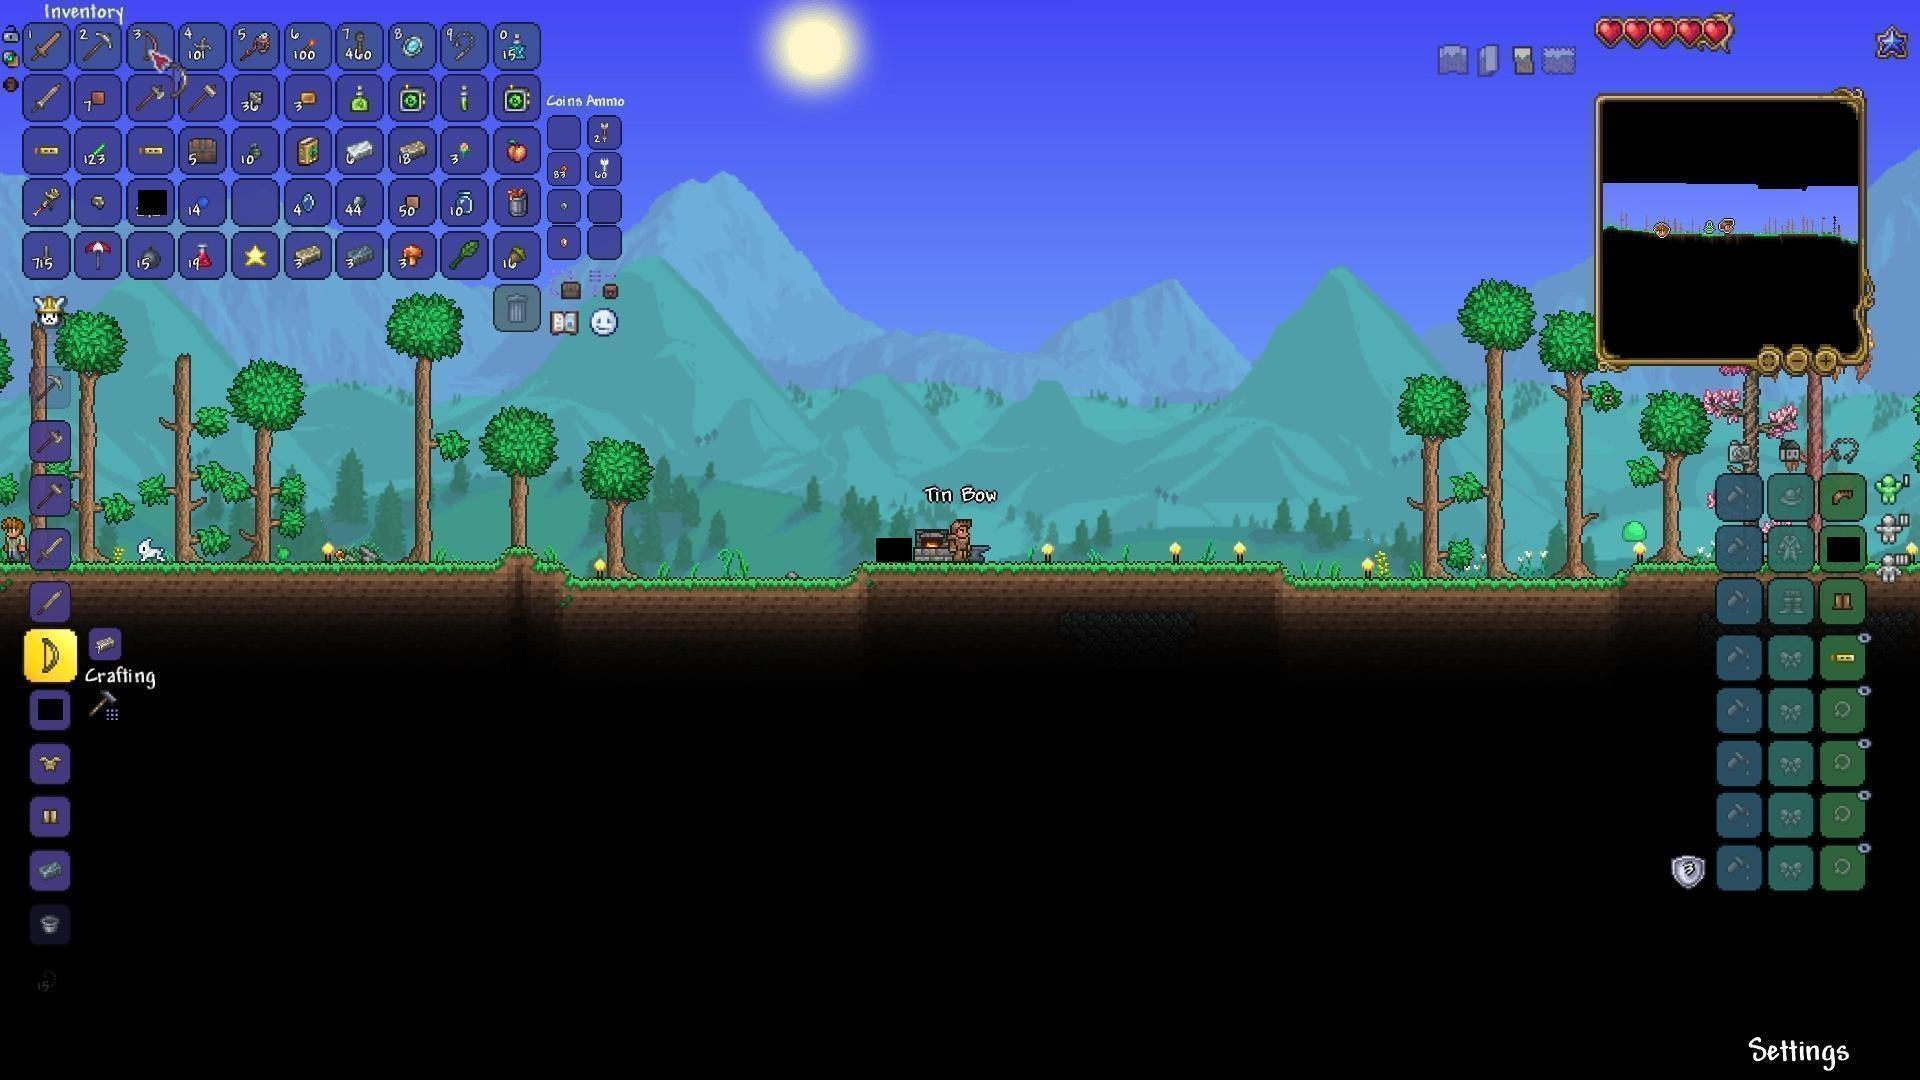breastplate: (37, 753, 63, 773)
helmet: (1829, 487, 1857, 508)
legs: (1830, 591, 1859, 615), (37, 806, 61, 825)
slime: (1625, 520, 1648, 545)
